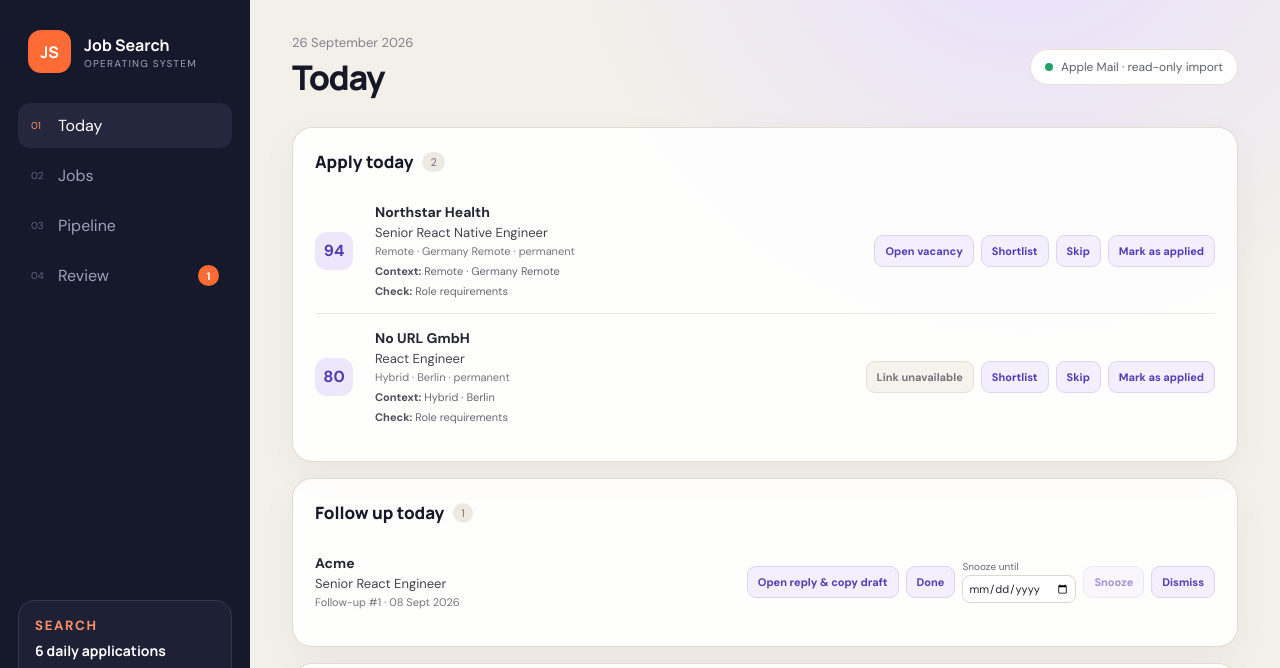
App › edits a source with prefilled fields and disables it without removing the row
Expected: the heading "Today" is shown, [292, 54, 384, 100]
Click the button "02 Jobs" at coordinates (125, 176), box [18, 153, 232, 198]
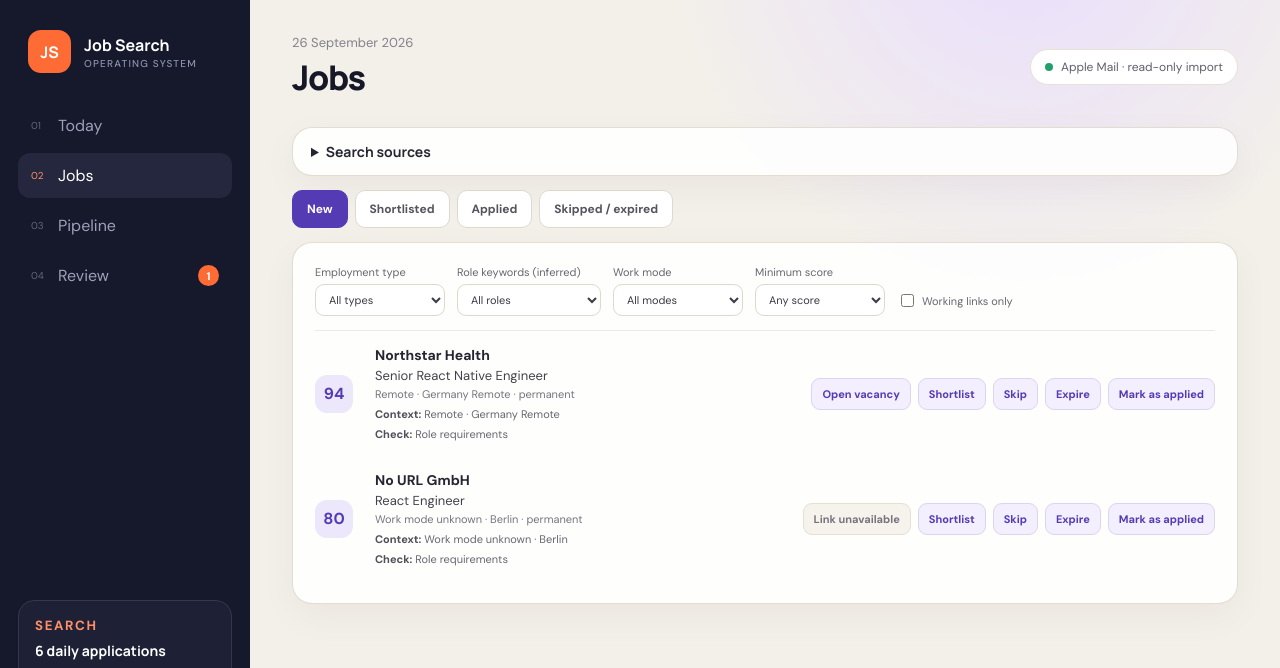
Click the heading "Search sources" at coordinates (378, 152), box [326, 142, 431, 161]
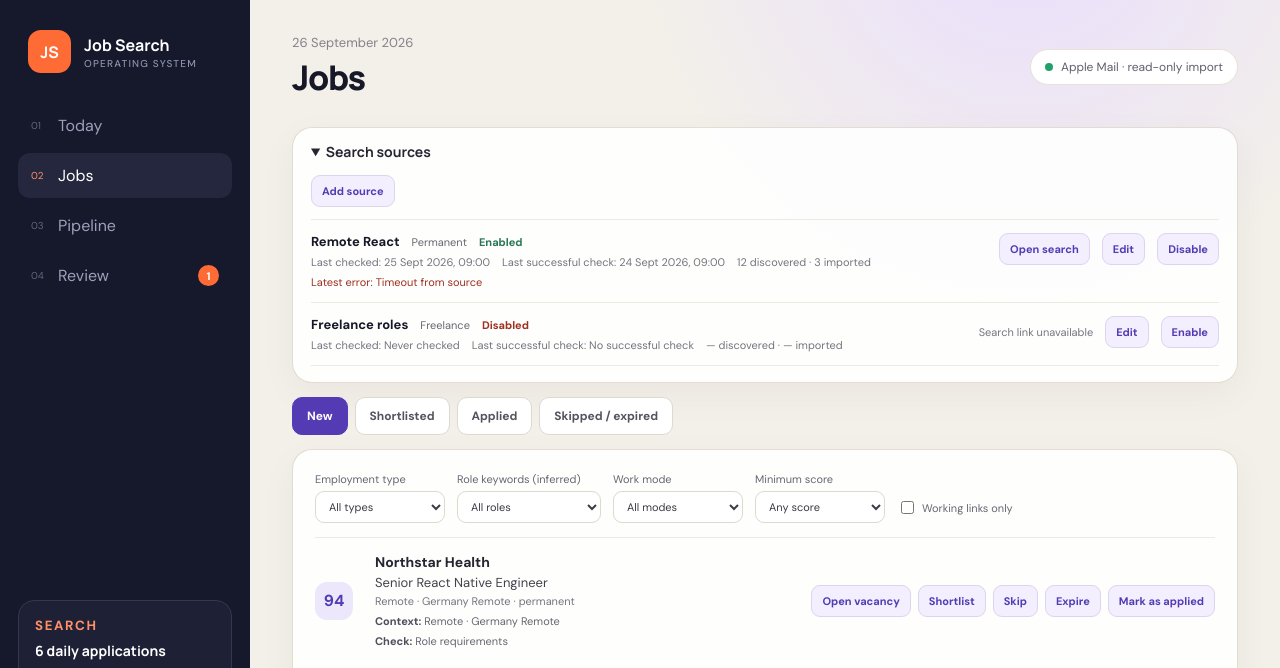
Click the button with aria-label "Edit Remote React" at coordinates (1123, 249), box [1102, 233, 1145, 265]
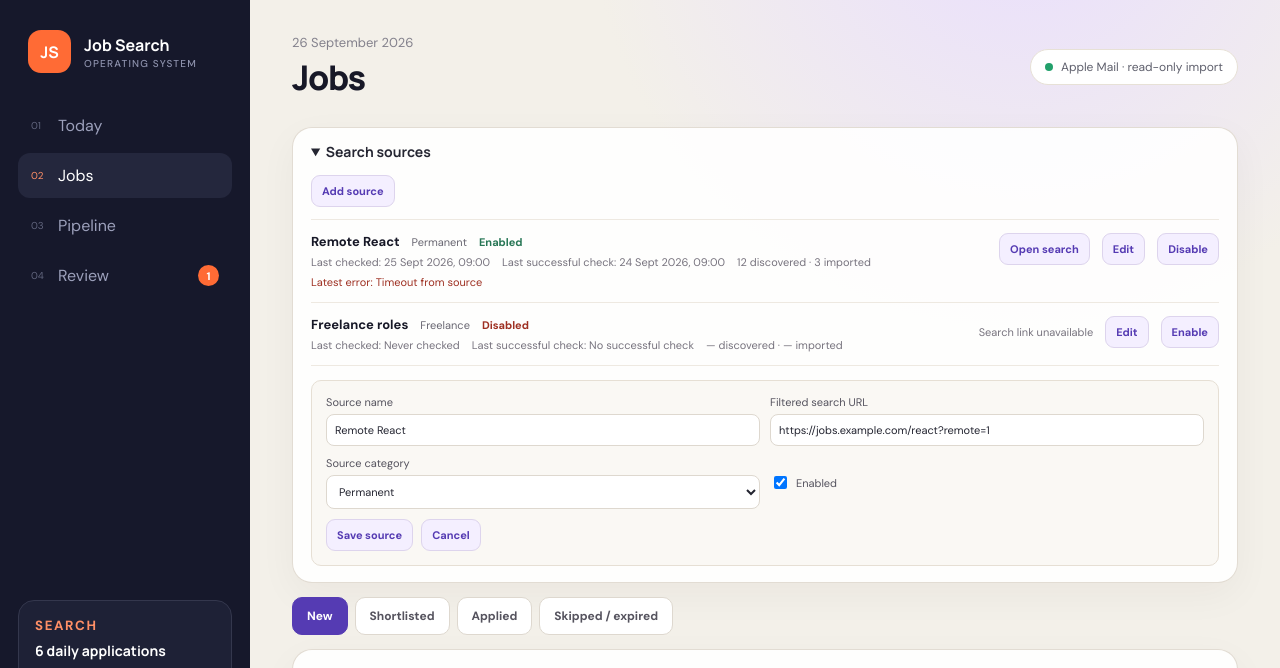
Now the field labelled "Source name" holds "Remote React", box [326, 414, 760, 446]
Now the field labelled "Filtered search URL" holds "https://jobs.example.com/react?remote=1", box [770, 414, 1204, 446]
Now the dropdown labelled "Source category" shows "Permanent"
Select "Both" in the dropdown labelled "Source category" at coordinates (543, 492), box [326, 475, 760, 509]
Click the button "Save source" at coordinates (370, 535), box [326, 519, 413, 551]
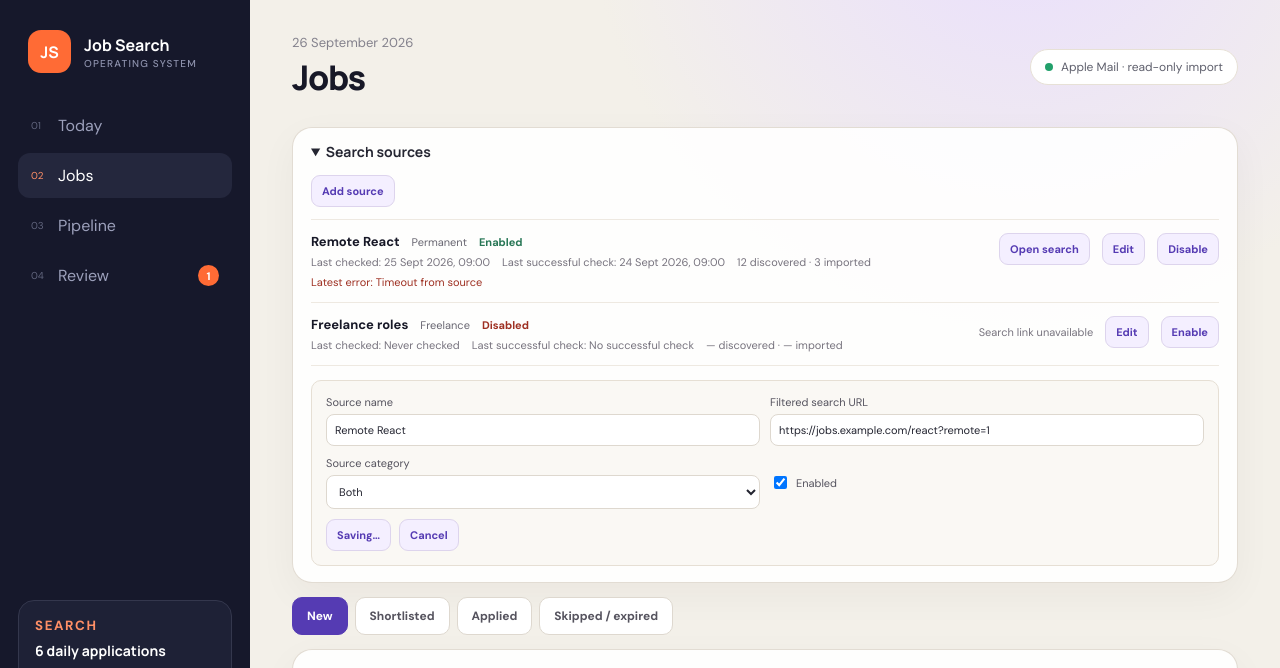
Click the button with aria-label "Disable Remote React" at coordinates (1188, 249), box [1157, 233, 1219, 265]
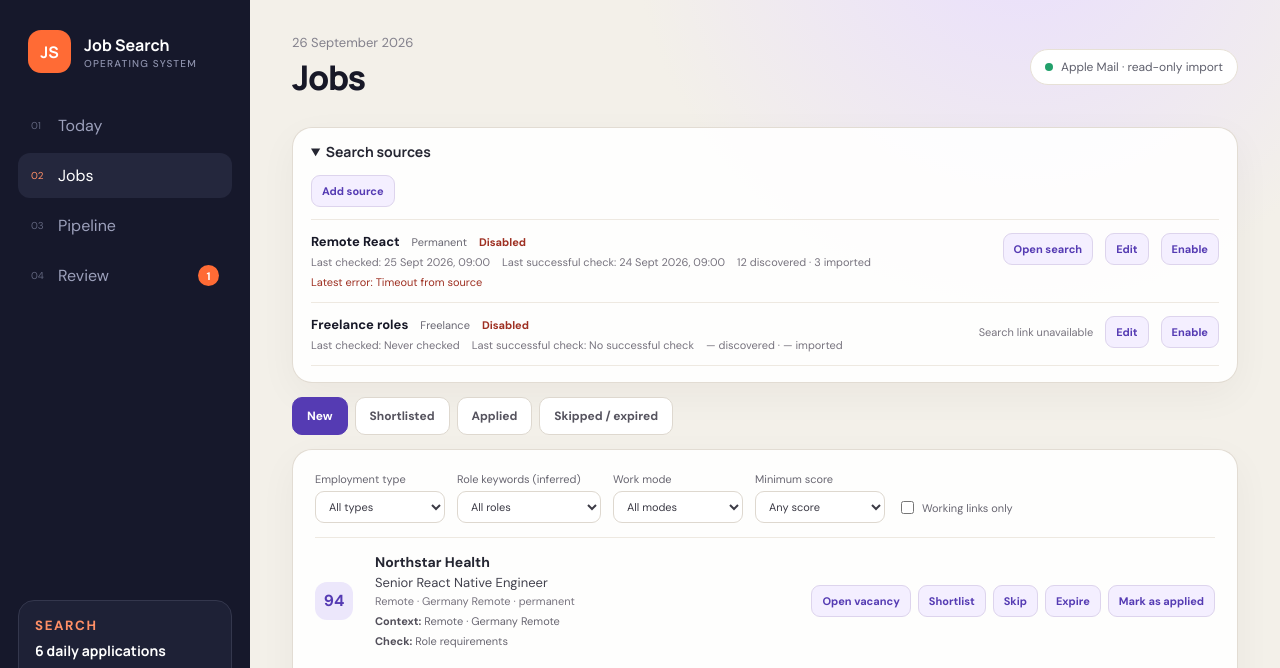
Now the button with aria-label "Enable Remote React" is shown
Now the text "Remote React" is shown, box [311, 233, 400, 250]
Now the text "Disabled" in the row of "Remote React" is shown, box [479, 234, 526, 248]
Click the button with aria-label "Enable Remote React" at coordinates (1190, 249), box [1161, 233, 1219, 265]
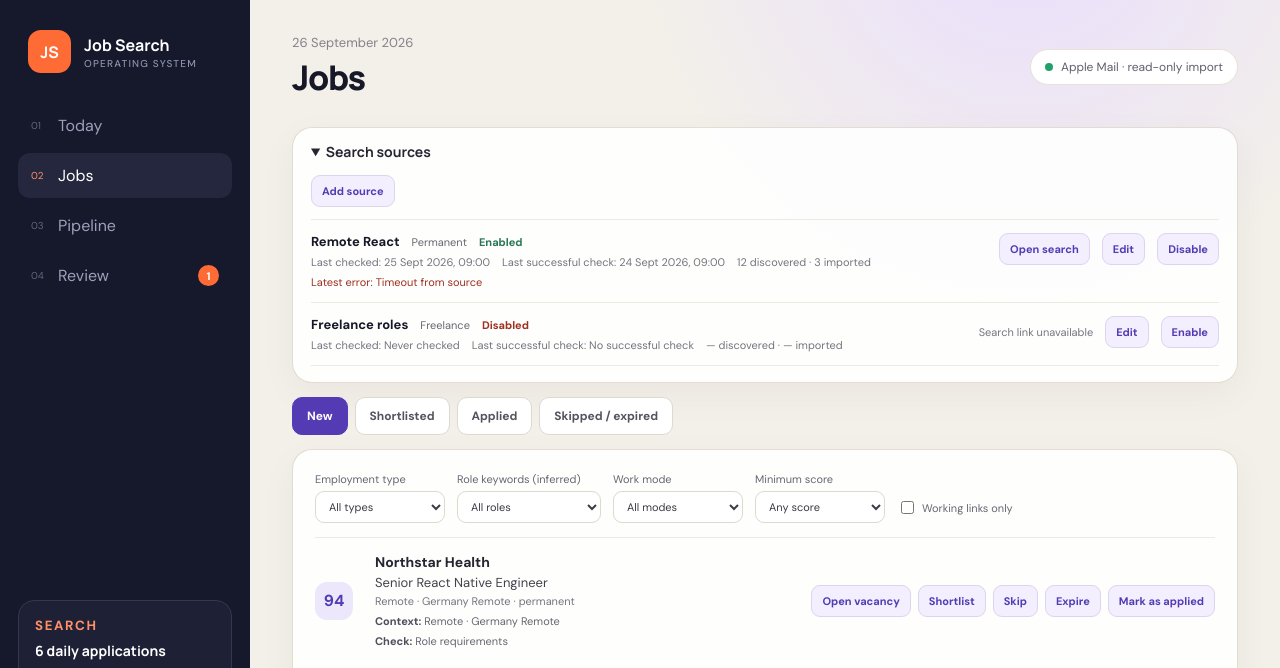
Now the text "Enabled" is shown, box [479, 234, 523, 248]
